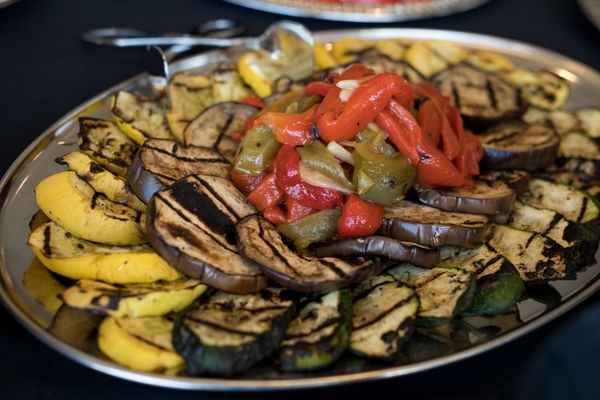sandwich: (79, 19, 253, 46)
